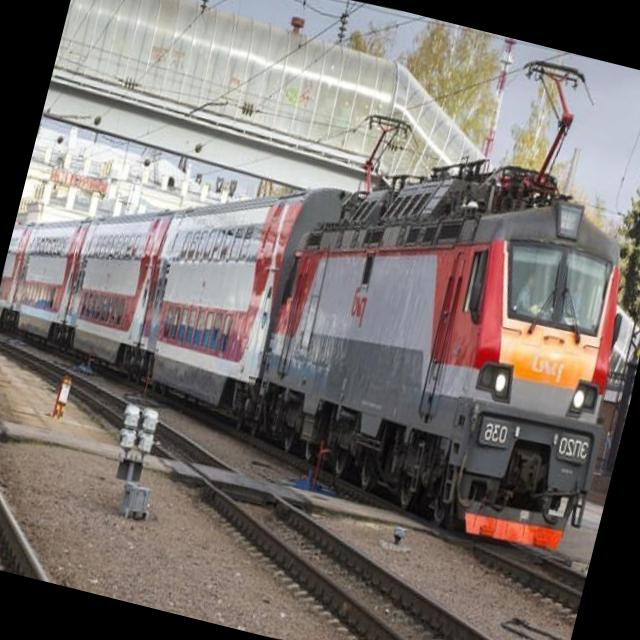trains: (0, 161, 630, 552)
